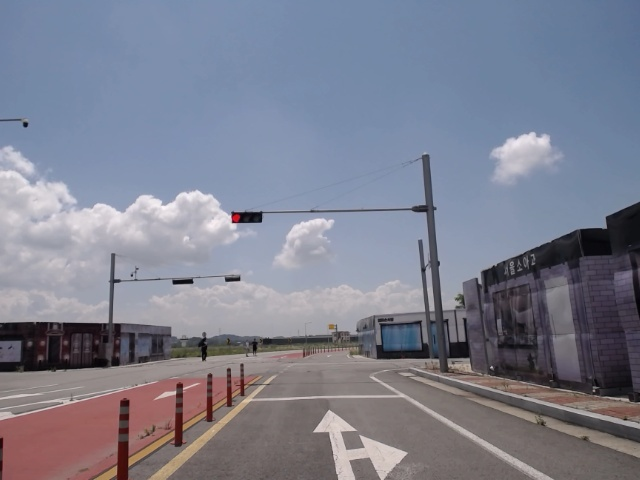red_3: (231, 212, 264, 223)
